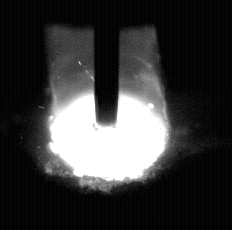arame: (95, 0, 120, 127)
poca: (49, 0, 168, 230)
